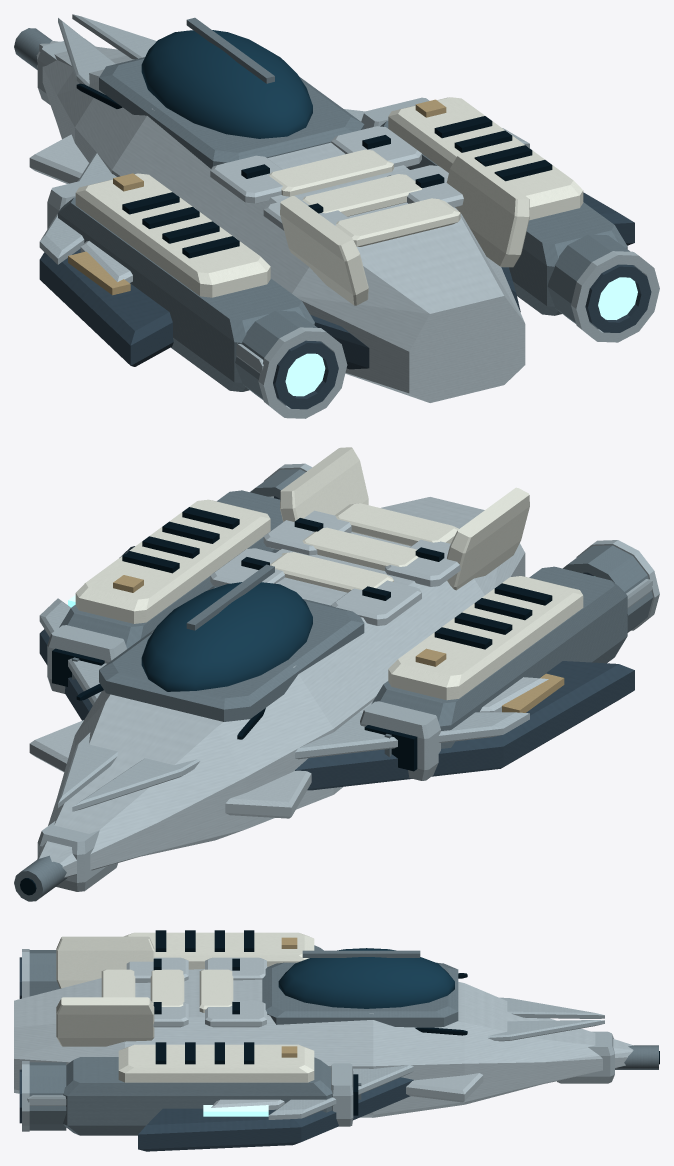
File: interceptor.glb
3 views of the same model, one above another, from view 1: azimuth 30°, elevation 25°; view 2: azimuth 150°, elevation 25°; view 3: azimuth 270°, elevation 25° (orthographic). The views are drawn at different scales.
Visible parts, largest first — view 1: _MeshInstance3D_71; view 2: _MeshInstance3D_71; view 3: _MeshInstance3D_71.
Part boxes in pixels (x1,y1,x2,y2): _MeshInstance3D_71: [14, 14, 659, 418]; _MeshInstance3D_71: [14, 447, 659, 901]; _MeshInstance3D_71: [14, 930, 659, 1151].
Size of the model in its own units: 0.19 by 0.0697 by 0.2868.
1 material, 1 textured.
